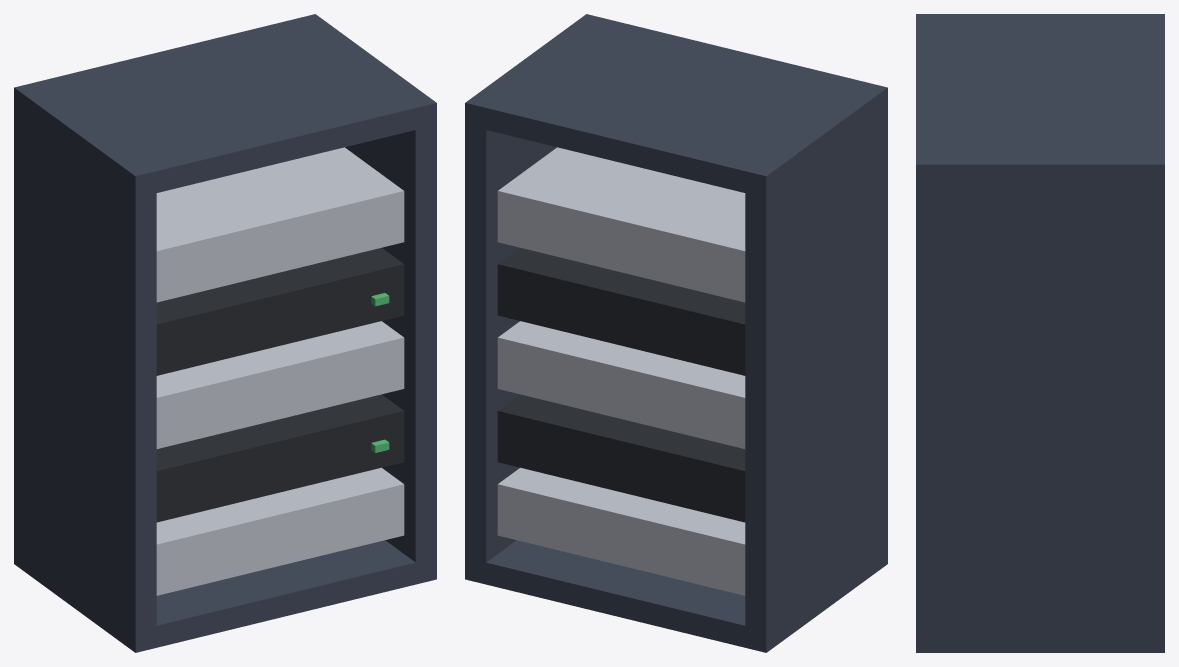
Rendered from station_transport_3.glb.
3 renders of one model, left to right at view 1: azimuth 30°, elevation 25°; view 2: azimuth 150°, elevation 25°; view 3: azimuth 270°, elevation 25°, orthographic. The views are drawn at different scales.
Visible parts, largest first — view 1: rack_rahmen, rack_deckel, einschub_4, einschub_0, einschub_2, einschub_3, einschub_1, rack_rahmen.001, rack_boden; view 2: rack_rahmen, rack_deckel, einschub_4, einschub_0, einschub_1, einschub_2, einschub_3, rack_rahmen.001, rack_boden; view 3: rack_rahmen.001, rack_deckel, rack_boden.
Boxes of the visible parts, x1,y1,x2,y2 form: rack_rahmen: [14, 108, 156, 630]; rack_deckel: [14, 14, 436, 197]; einschub_4: [156, 147, 404, 302]; einschub_0: [156, 467, 404, 595]; einschub_2: [156, 321, 404, 448]; einschub_3: [156, 248, 404, 375]; einschub_1: [156, 394, 404, 522]; rack_rahmen.001: [345, 121, 436, 579]; rack_boden: [14, 540, 436, 652]; rack_rahmen: [745, 106, 887, 630]; rack_deckel: [465, 14, 887, 197]; einschub_4: [497, 147, 745, 302]; einschub_0: [497, 467, 745, 595]; einschub_1: [497, 394, 745, 522]; einschub_2: [497, 321, 745, 448]; einschub_3: [497, 248, 745, 375]; rack_rahmen.001: [465, 121, 556, 579]; rack_boden: [465, 540, 887, 652]; rack_rahmen.001: [916, 183, 1164, 630]; rack_deckel: [916, 14, 1164, 187]; rack_boden: [916, 630, 1164, 652].
Bounding box in the file's own units: 0.43 × 0.65 × 0.3.
